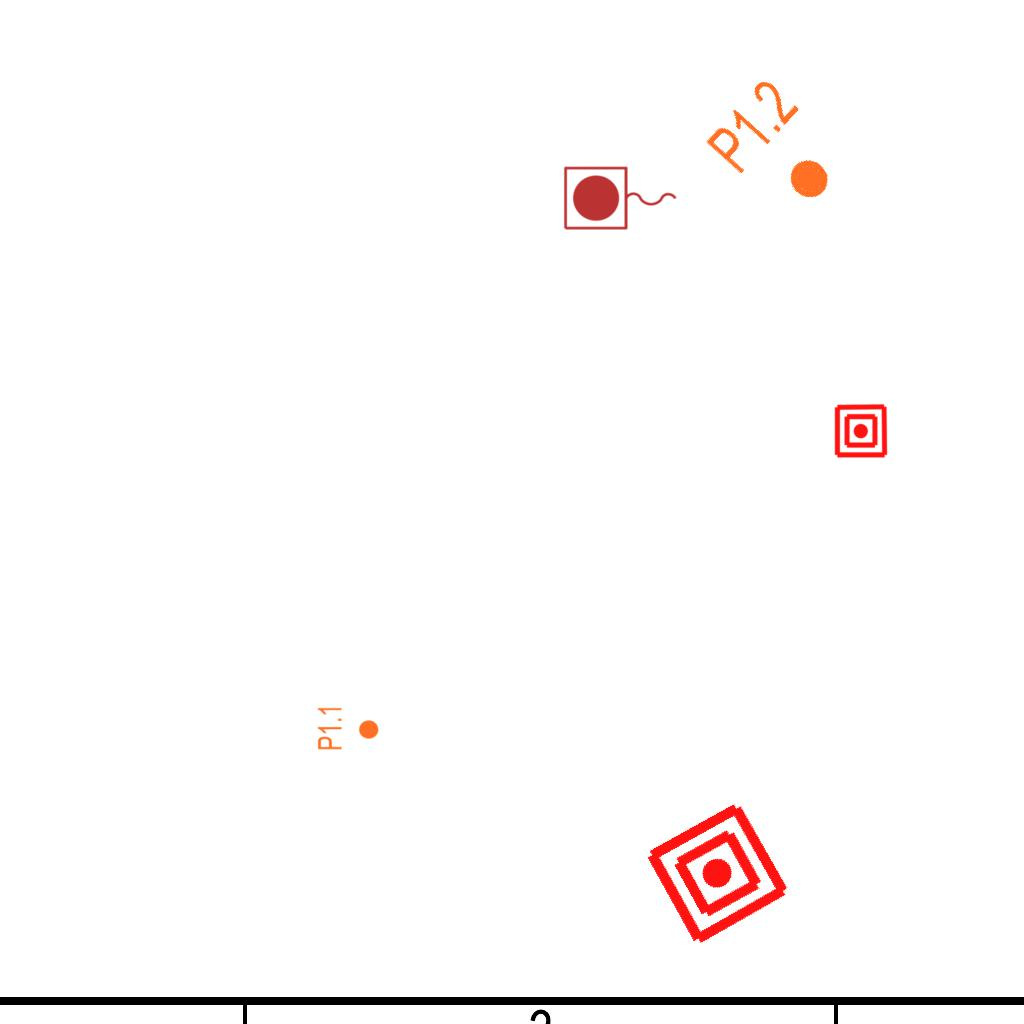Downlight_LED_Einbauleuchten_Flur: (700, 72, 859, 228), (316, 705, 380, 751)
NAM-Nichtautomatischer_Melder: (640, 796, 795, 951), (833, 403, 889, 459)
Zugtaster: (560, 163, 682, 235)
